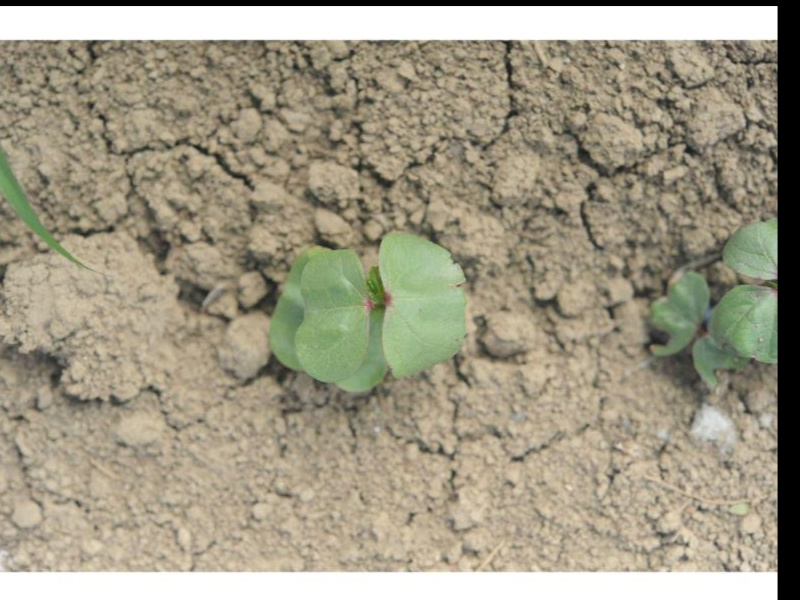cotton: (266, 229, 467, 394), (653, 218, 777, 386)
